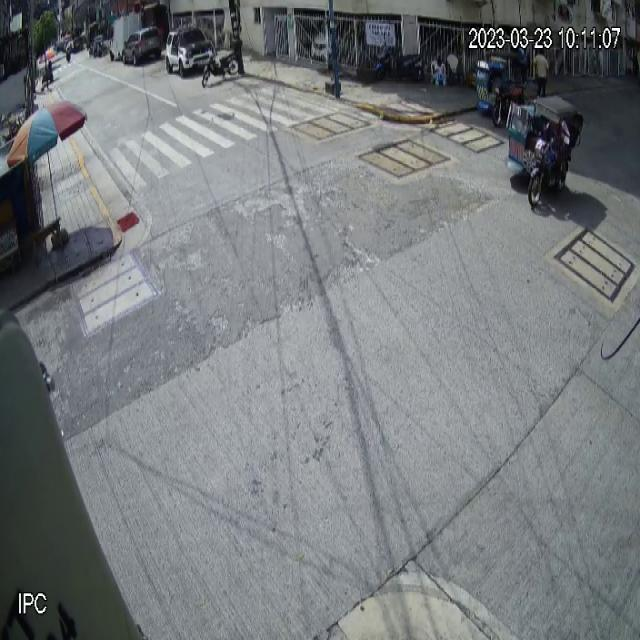Tricycle: (508, 94, 584, 208), (476, 52, 528, 127)
